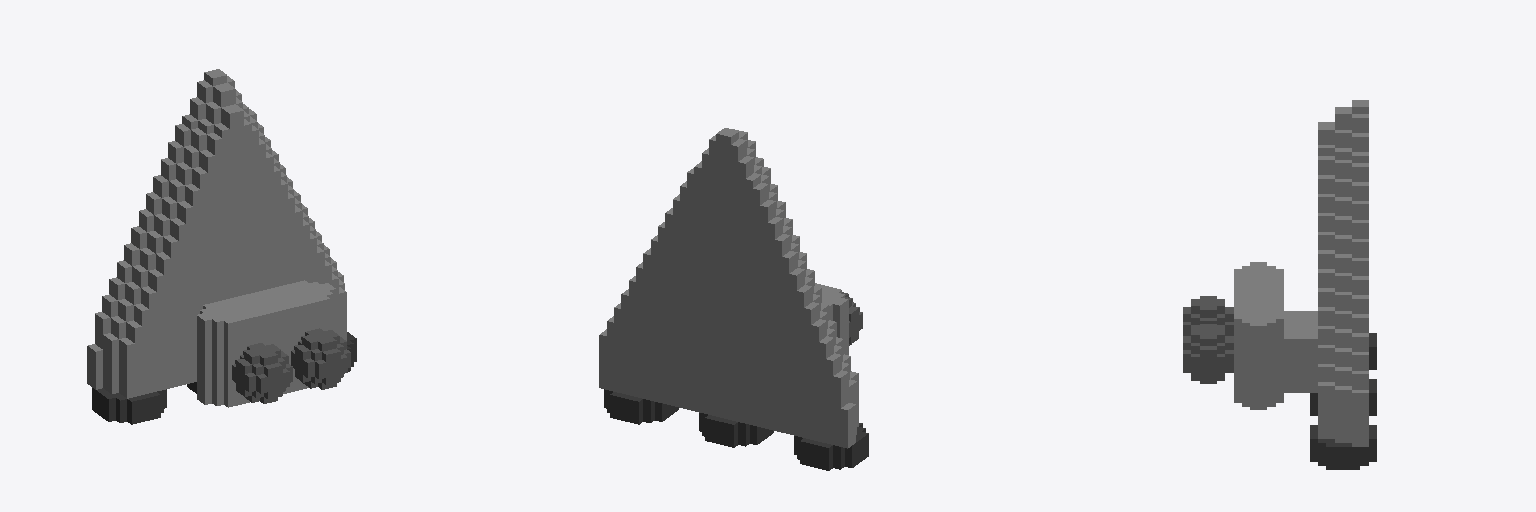
The picture shows the model from 3 angles: view 1: azimuth 30°, elevation 25°; view 2: azimuth 150°, elevation 25°; view 3: azimuth 270°, elevation 25°; orthographic projection.
Parts seen in each view (by area): view 1: object 1; view 2: object 1; view 3: object 1.
Part boxes in pixels (left/top/right/bottom): object 1: left=87, top=69, right=356, bottom=424; object 1: left=599, top=128, right=868, bottom=470; object 1: left=1183, top=100, right=1376, bottom=469.
Bounding box in the file's own units: 3.4 × 4 × 2.3.
1 materials, 1 textured.